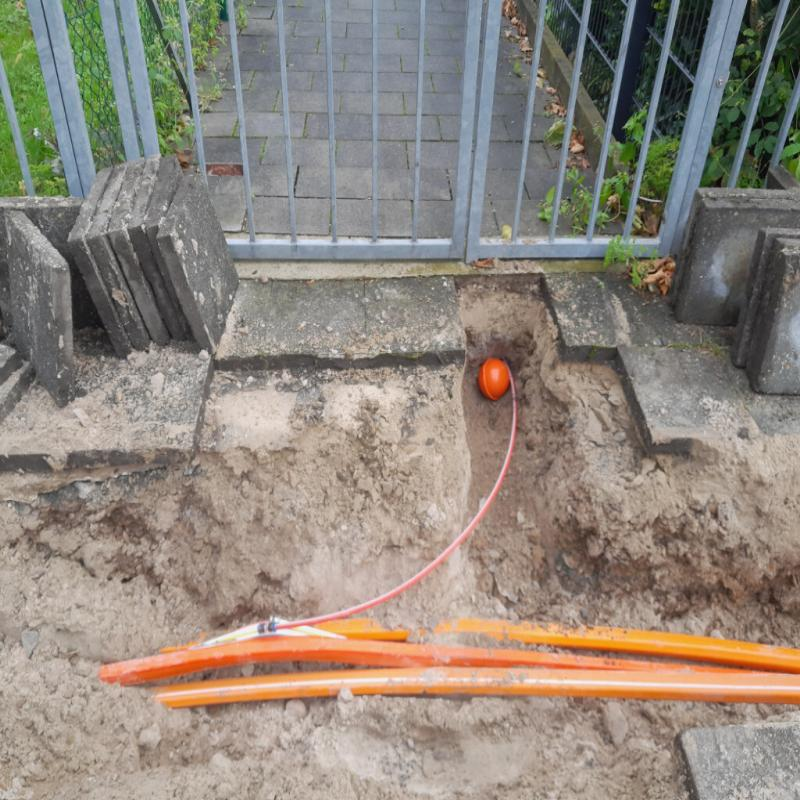Kugelmarker: (477, 355, 510, 399)
Orang-Speednetrohrchen: (156, 619, 800, 709)
